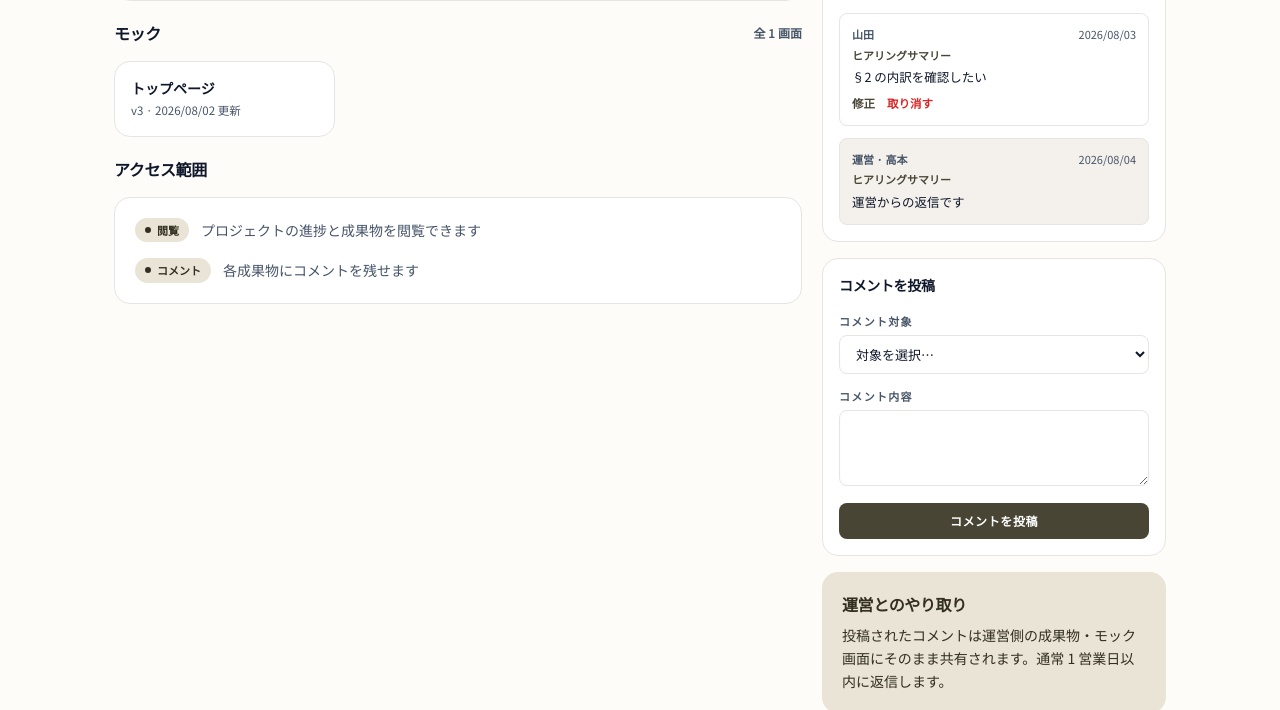
Test: S-L03 GAP-029 実コンテンツ › posts a comment with the selected target and shows the notice
The width and height of the screenshot is (1280, 710).
(page scrolled)
Select "ヒアリングサマリー v2" in the dropdown labelled "コメント対象" at [994, 354], box top-left (839, 335), bottom-right (1149, 374)
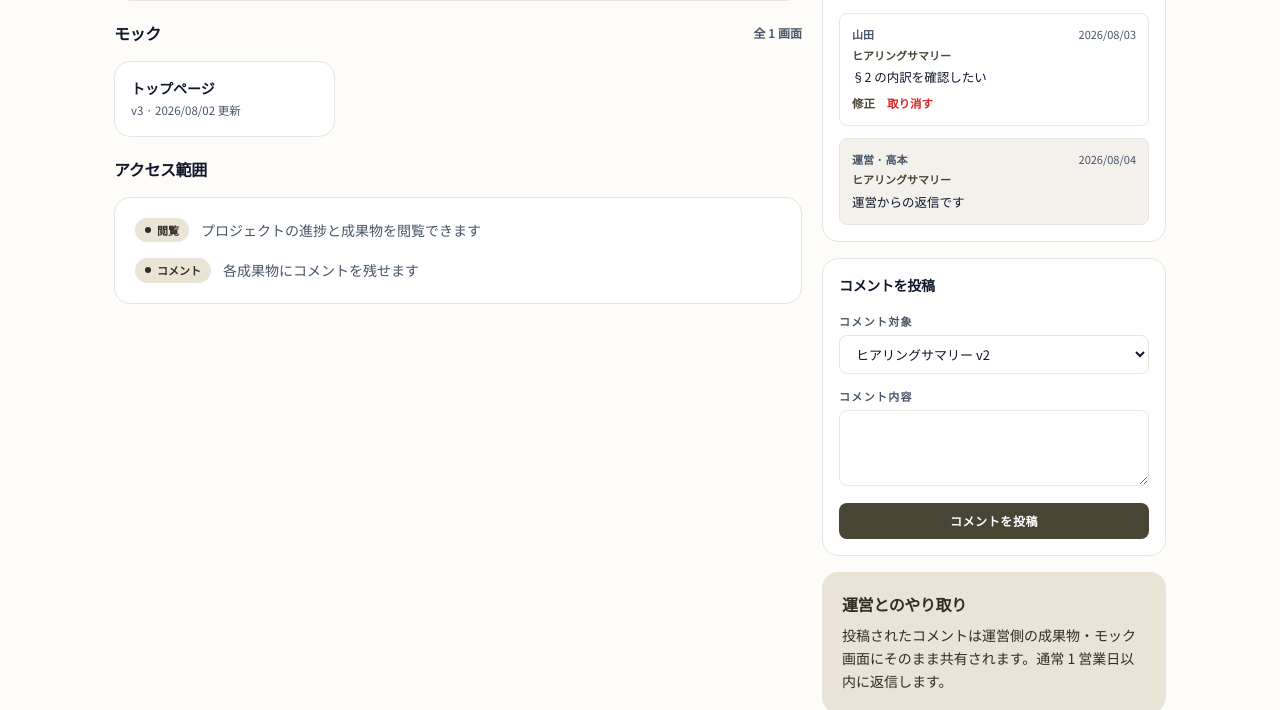
Type "確認お願いします" into the text box labelled "コメント内容".
click(994, 448); type("確認お願いします")  # box top-left (839, 410), bottom-right (1149, 486)
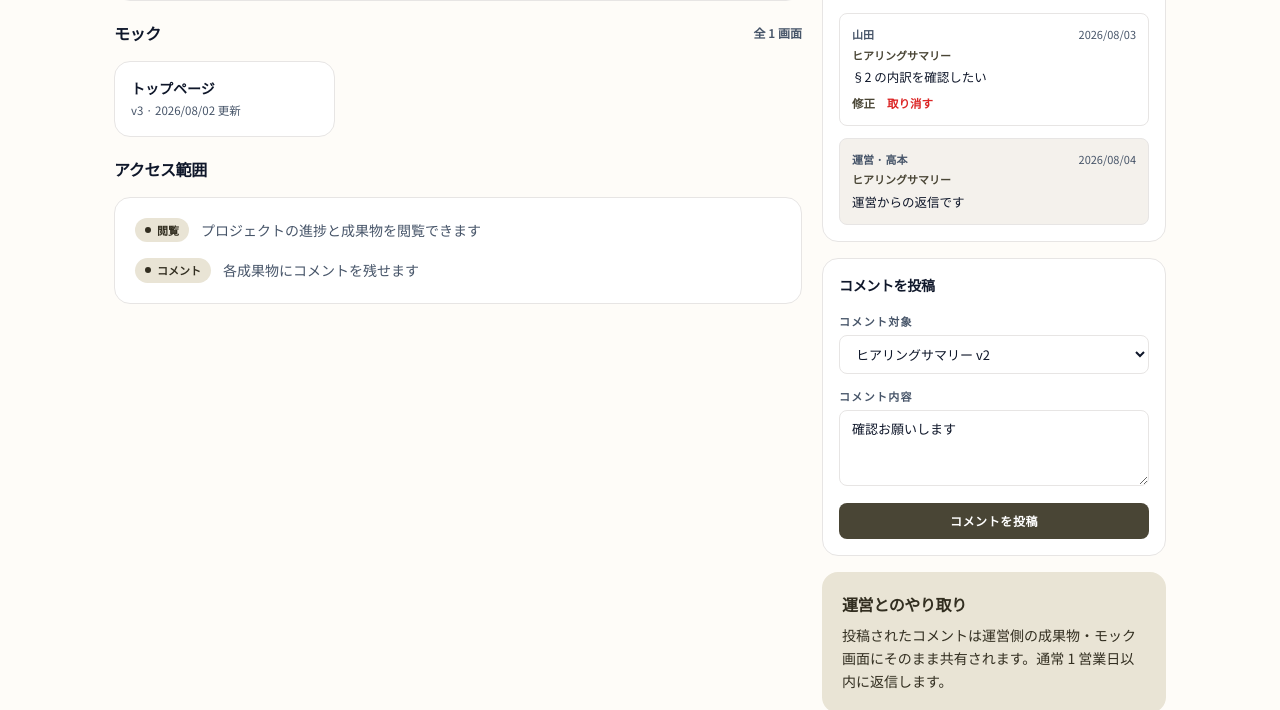
Click the button "コメントを投稿".
click(994, 521)  # box top-left (839, 503), bottom-right (1149, 539)
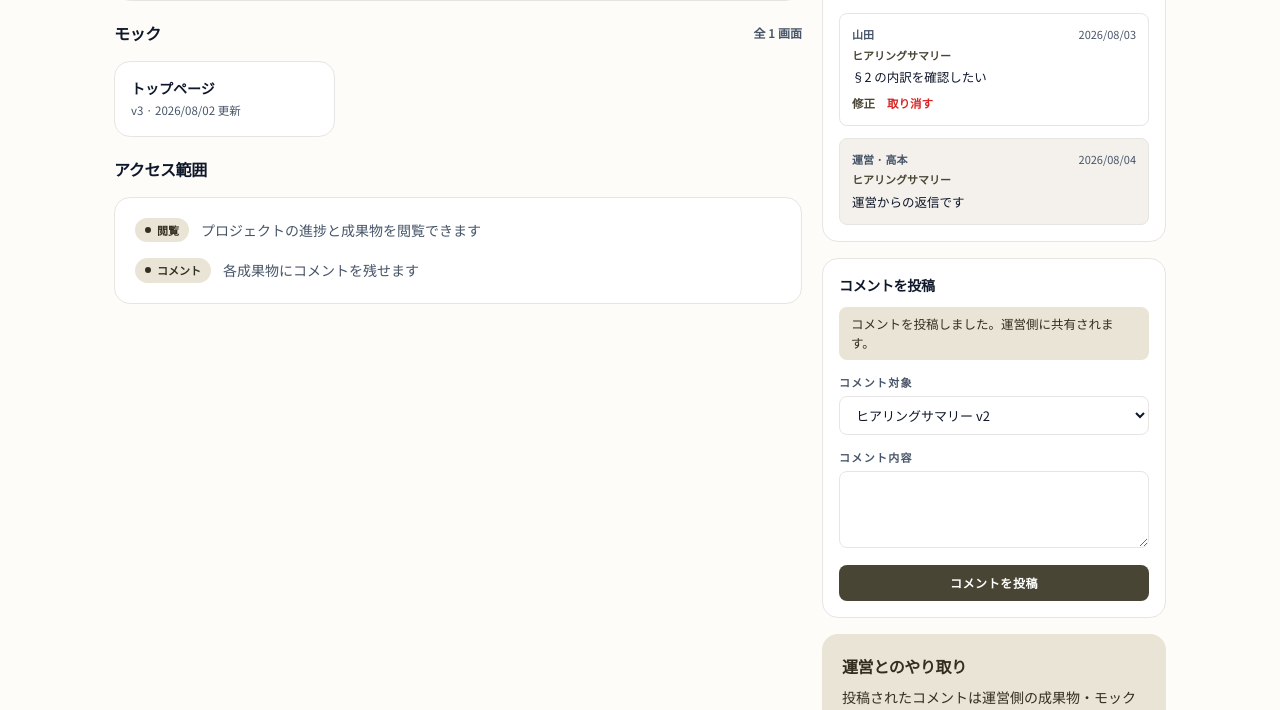
Now the text "コメントを投稿しました。運営側に共有されます。" is shown, box top-left (839, 307), bottom-right (1149, 360)
